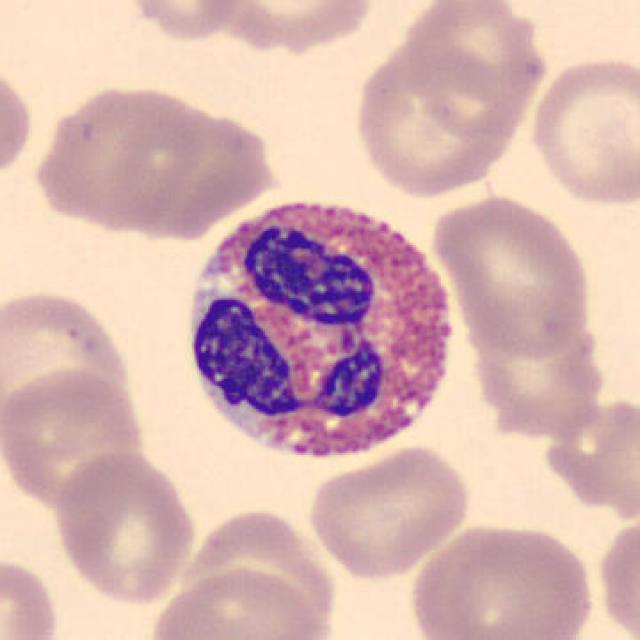Eosinophil: (172, 182, 470, 479)
RBC: (350, 35, 528, 199), (428, 192, 598, 360), (28, 81, 210, 235), (103, 95, 285, 242), (404, 518, 599, 640), (304, 441, 475, 580), (50, 448, 197, 606), (392, 0, 552, 139), (2, 363, 148, 511), (0, 284, 139, 435), (464, 311, 605, 446), (524, 49, 638, 210), (183, 509, 337, 626), (146, 562, 332, 640), (544, 399, 640, 518), (208, 0, 379, 55), (116, 0, 250, 44), (593, 509, 638, 640), (0, 552, 62, 640), (0, 54, 36, 190)
